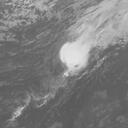cyclone: (58, 40, 94, 78)
